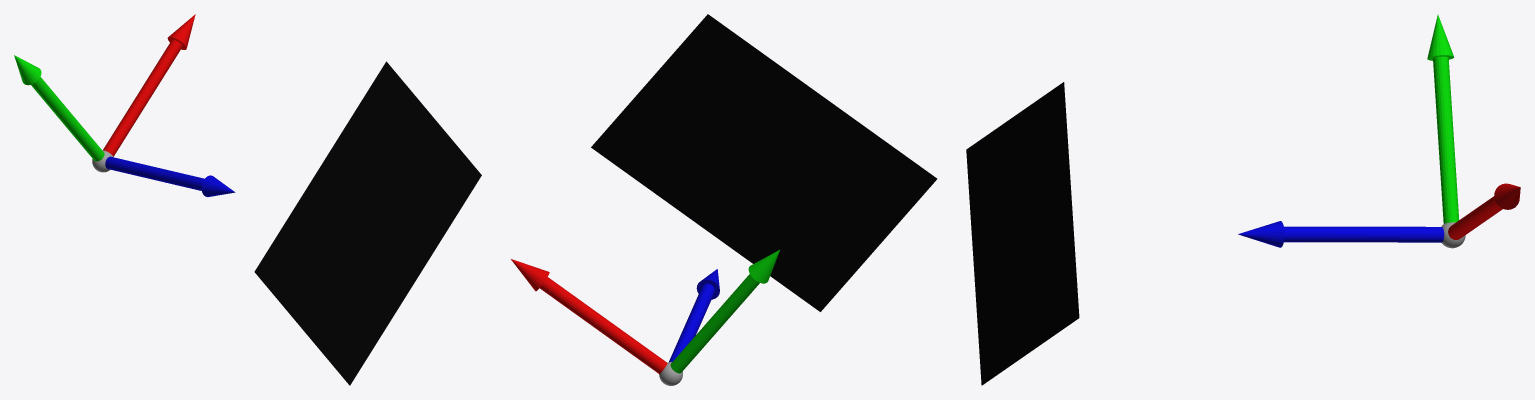
3 views of the same model, side by side, from view 1: azimuth 30°, elevation 25°; view 2: azimuth 150°, elevation 25°; view 3: azimuth 270°, elevation 25° (orthographic). The views are drawn at different scales.
Size of the model in its own units: 0.2515 by 0.2115 by 0.3069.
